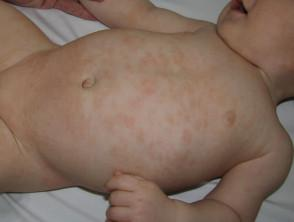Eczema: (102, 122, 200, 170), (124, 76, 209, 122), (120, 32, 190, 74)
